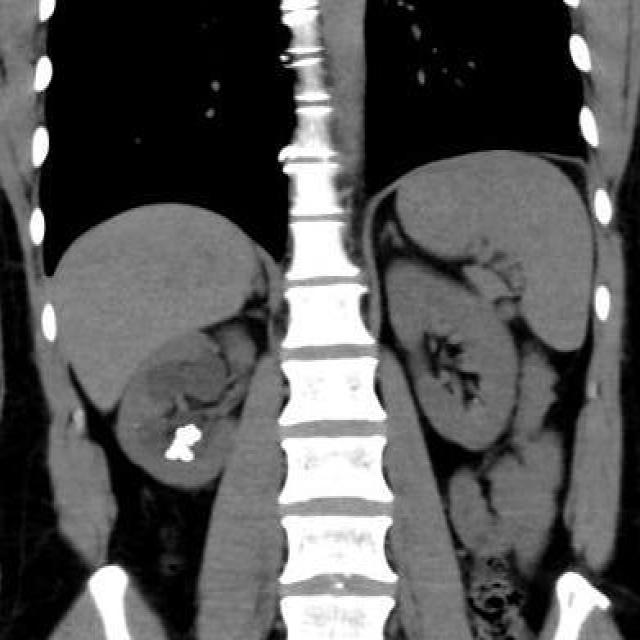Tas_Var: (176, 419, 205, 445), (175, 447, 198, 459), (164, 445, 178, 461), (174, 437, 188, 447), (176, 432, 186, 438)
